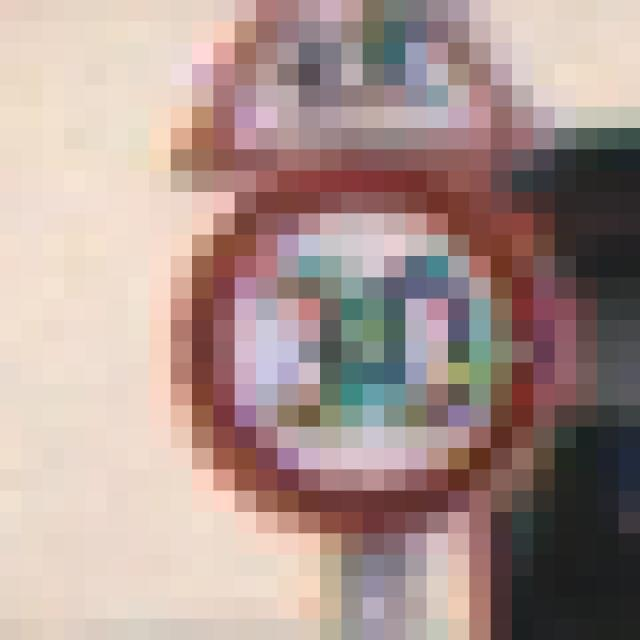Speed Limit -30-: (117, 96, 523, 502)
